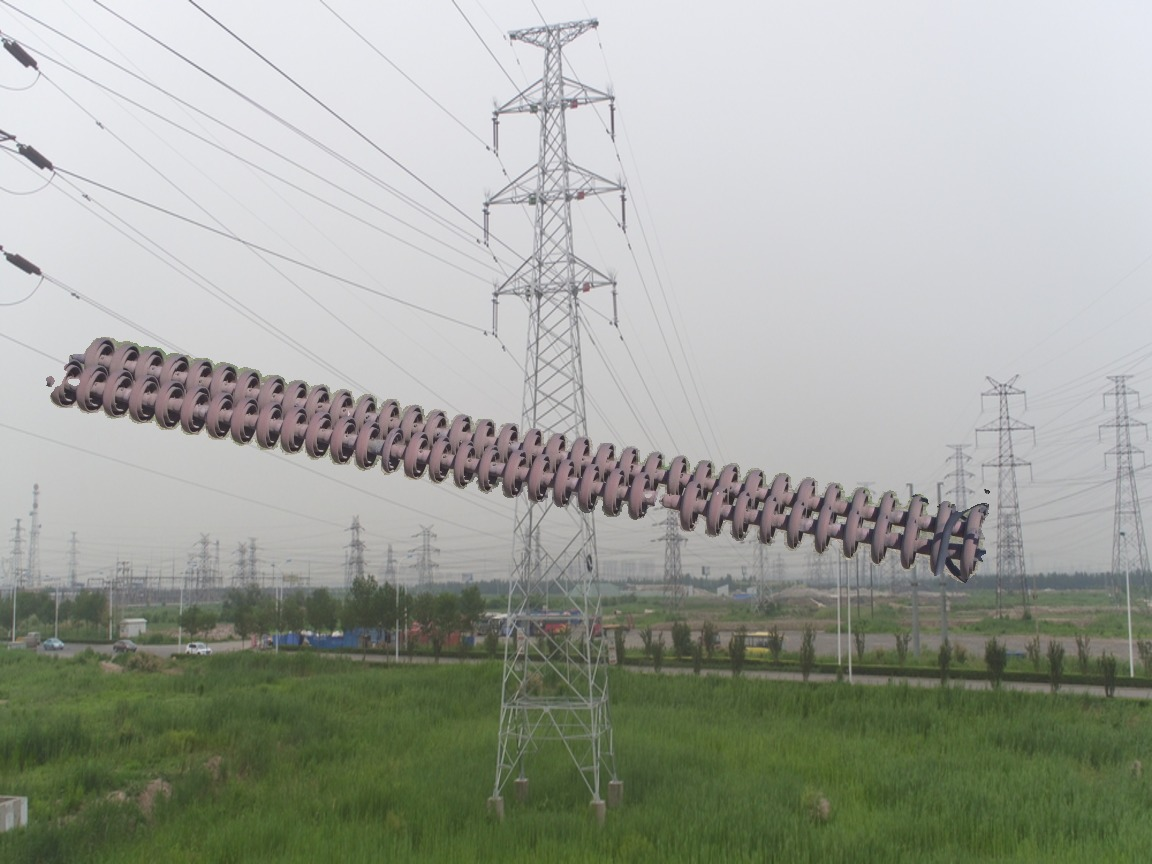defect: (618, 468, 701, 532)
